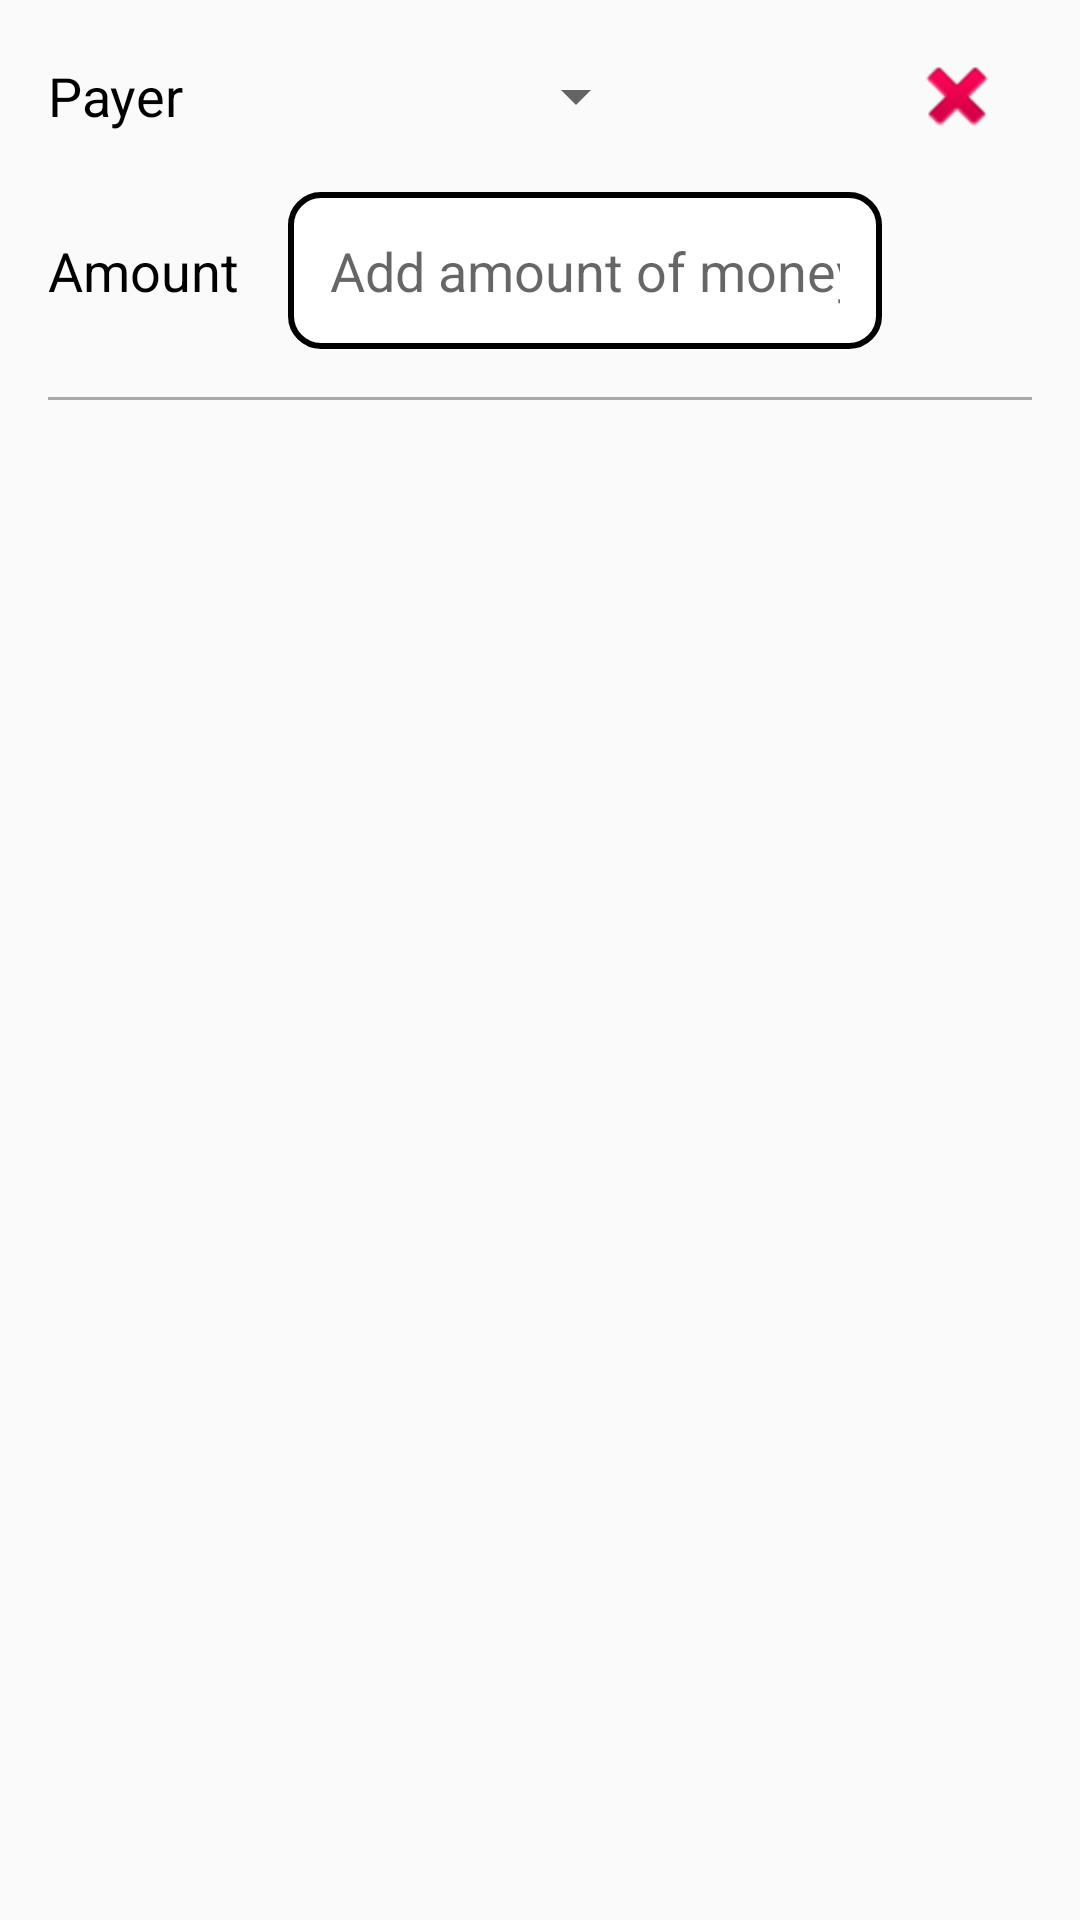

Screen size 1080w x 1920h. Icon name, then its box in pixels as (x1, y1, x2, y2):
delete: (926, 67, 988, 126)
